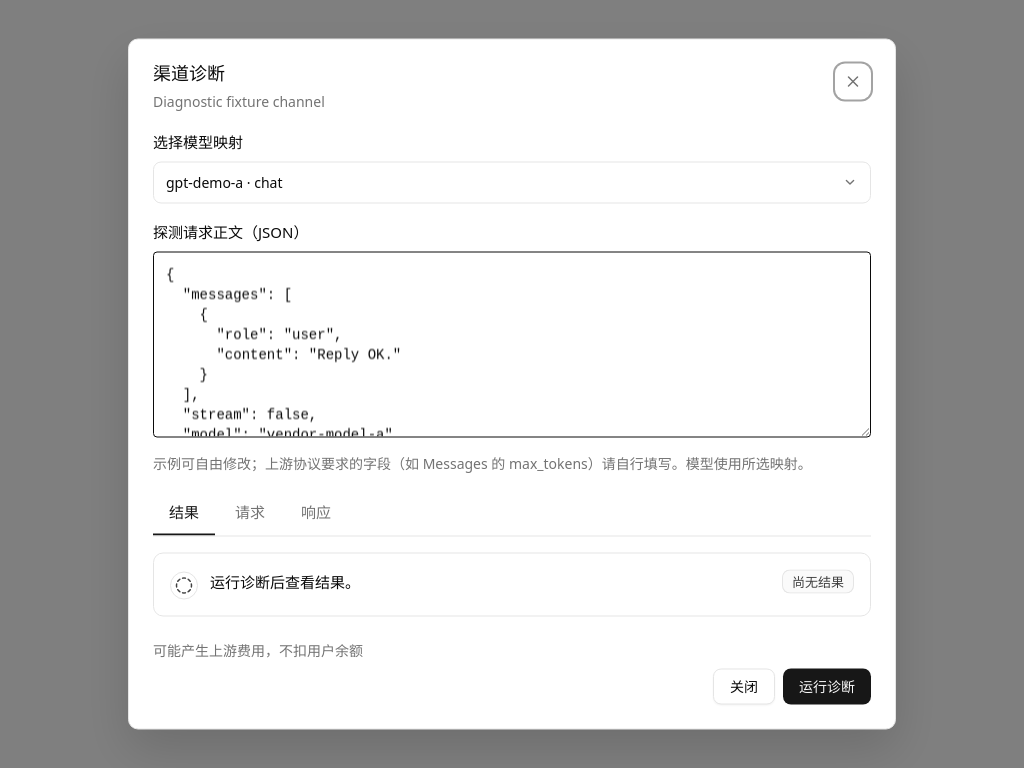
ChannelDiagnostics › shows the decoded protocol validation path and issue message in the result summary
Click the button "运行诊断": (827,686) [783,668,871,704]
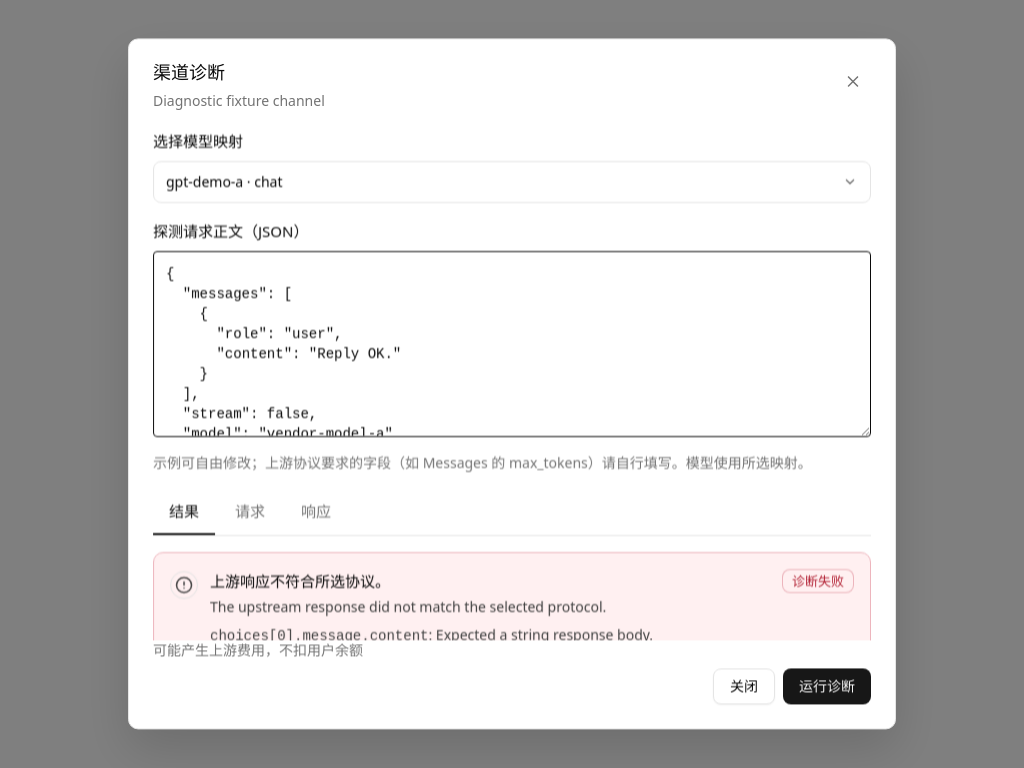
Expected: the text "诊断失败" is shown, [782,569,854,593]
Expected: the element named "诊断结果" shows "choices[0].message.content", [210,628,428,641]
Expected: the element named "诊断结果" shows "Expected a string response body.", [436,625,653,641]
